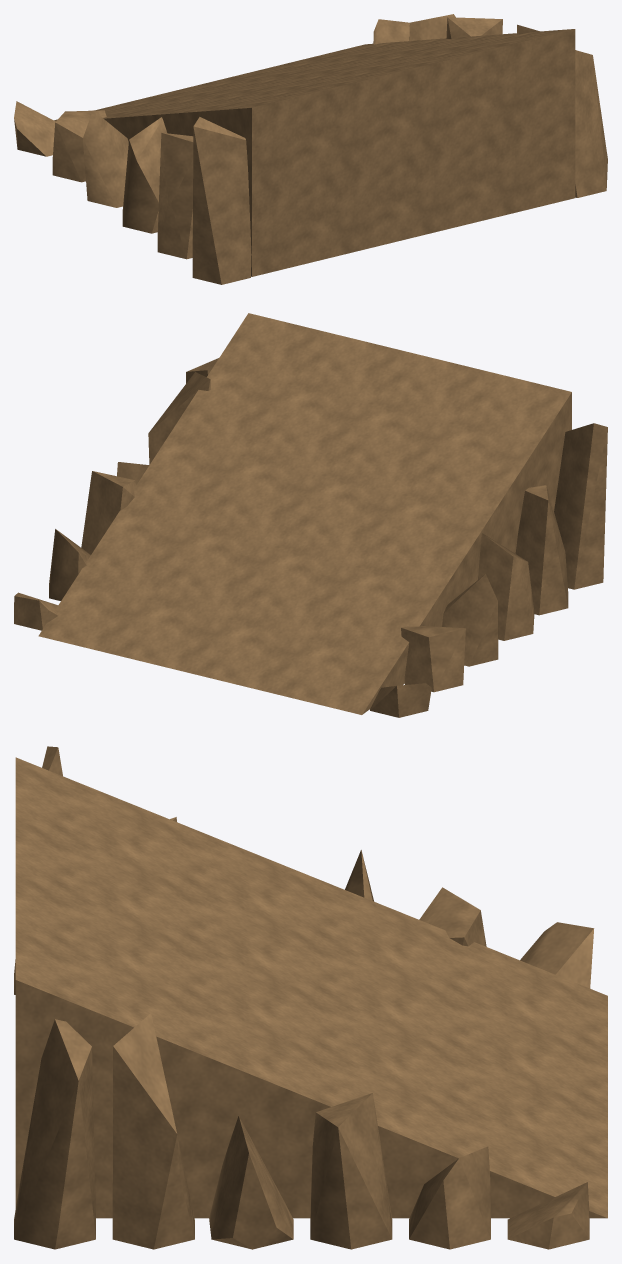
The model's file is terreno_rampa.glb.
3 renders of one model, top to bottom at view 1: azimuth 30°, elevation 25°; view 2: azimuth 150°, elevation 25°; view 3: azimuth 270°, elevation 25°, orthographic. The views are drawn at different scales.
Parts seen in each view (by area): view 1: Body_Rock; view 2: Body_Rock; view 3: Body_Rock.
Boxes of the visible parts, x1,y1,x2,y2 form: Body_Rock: [14, 14, 607, 284]; Body_Rock: [14, 313, 607, 717]; Body_Rock: [14, 746, 607, 1249].
Bounding box in the file's own units: 10.36 × 4 × 9.02.
1 material, 1 textured.
